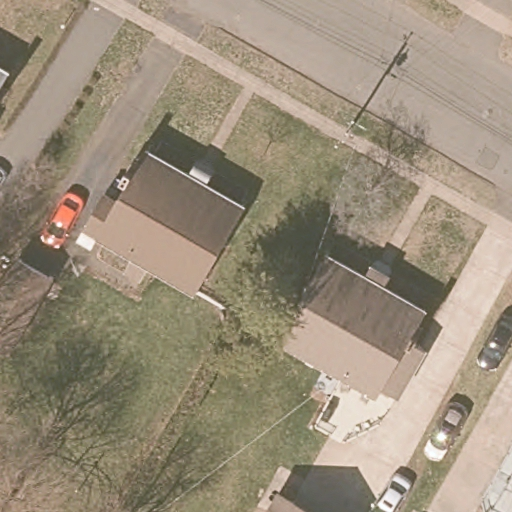DT: (333, 110, 363, 149)
